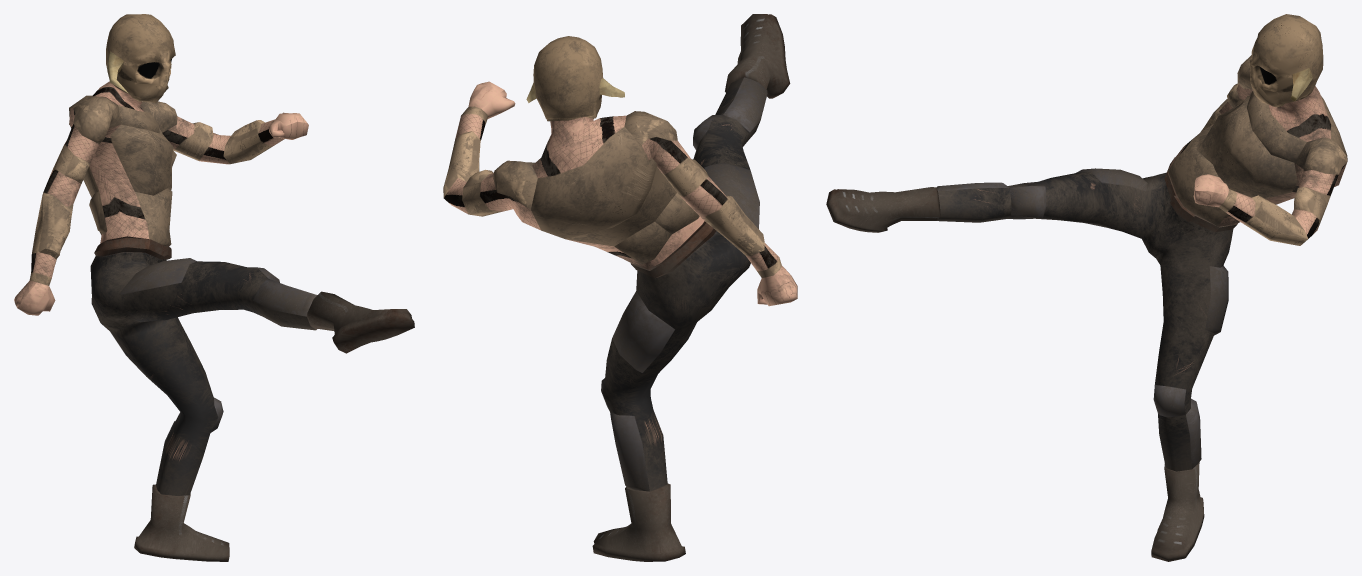
The model's file is Anim_ataque_f2_npc1.0019.obj.
3 renders of one model, left to right at view 1: azimuth 30°, elevation 25°; view 2: azimuth 150°, elevation 25°; view 3: azimuth 270°, elevation 25°, orthographic. The views are drawn at different scales.
Visible parts, largest first — view 1: NPC2; view 2: NPC2; view 3: NPC2.
Part boxes in pixels (x1,y1,x2,y2): NPC2: (14,14,414,561); NPC2: (443,14,797,561); NPC2: (826,14,1347,561).
Bounding box in the file's own units: 5.35 × 8.9 × 7.97.
